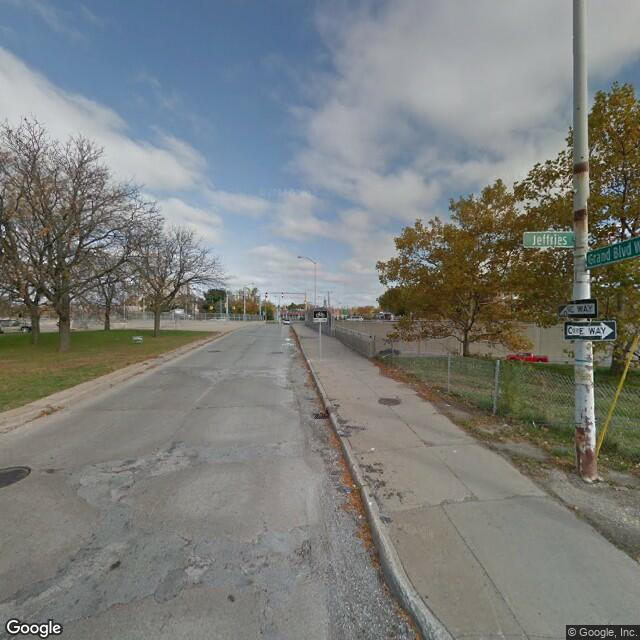litter: (446, 402, 452, 413), (356, 512, 363, 521), (529, 418, 536, 425), (354, 483, 360, 489), (544, 439, 550, 445), (370, 500, 375, 507), (502, 420, 507, 427), (370, 447, 376, 450)
